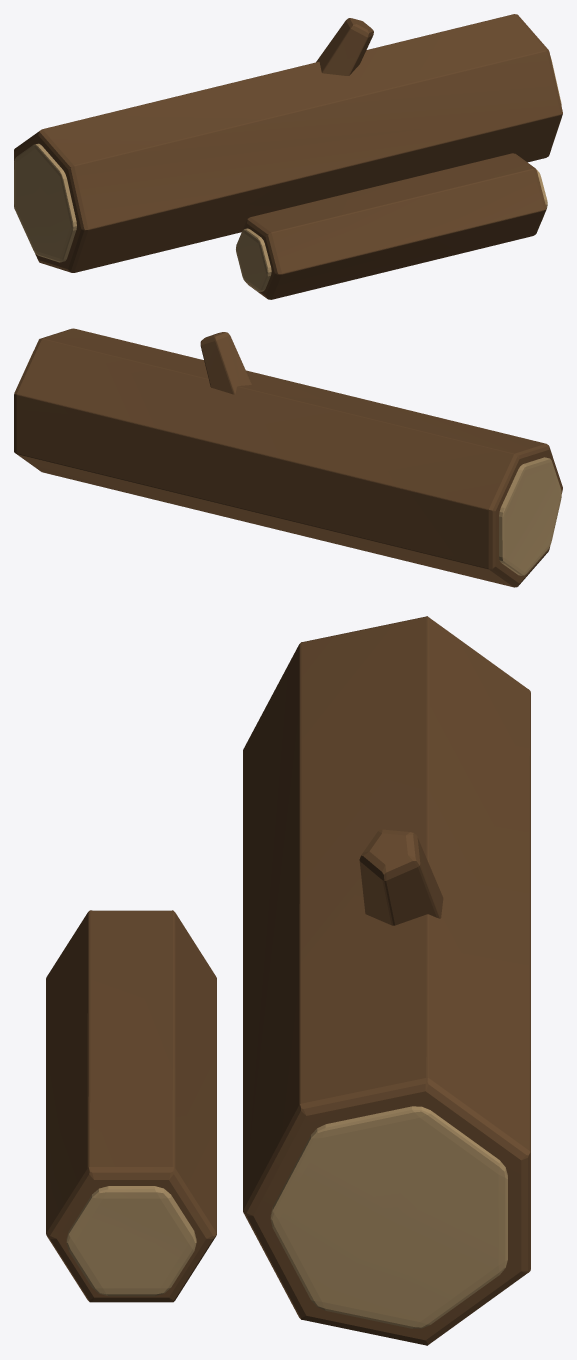
The model's file is prop_log.glb.
3 renders of one model, top to bottom at view 1: azimuth 30°, elevation 25°; view 2: azimuth 150°, elevation 25°; view 3: azimuth 270°, elevation 25°, orthographic. The views are drawn at different scales.
Parts seen in each view (by area): view 1: prop_log_part_0; view 2: prop_log_part_0; view 3: prop_log_part_0.
Boxes of the visible parts, bbox=[...] form: prop_log_part_0: bbox=[14, 14, 562, 299]; prop_log_part_0: bbox=[14, 328, 562, 587]; prop_log_part_0: bbox=[46, 616, 530, 1345].
Size of the model in its own units: 2.24 by 0.8051 by 0.9594.
